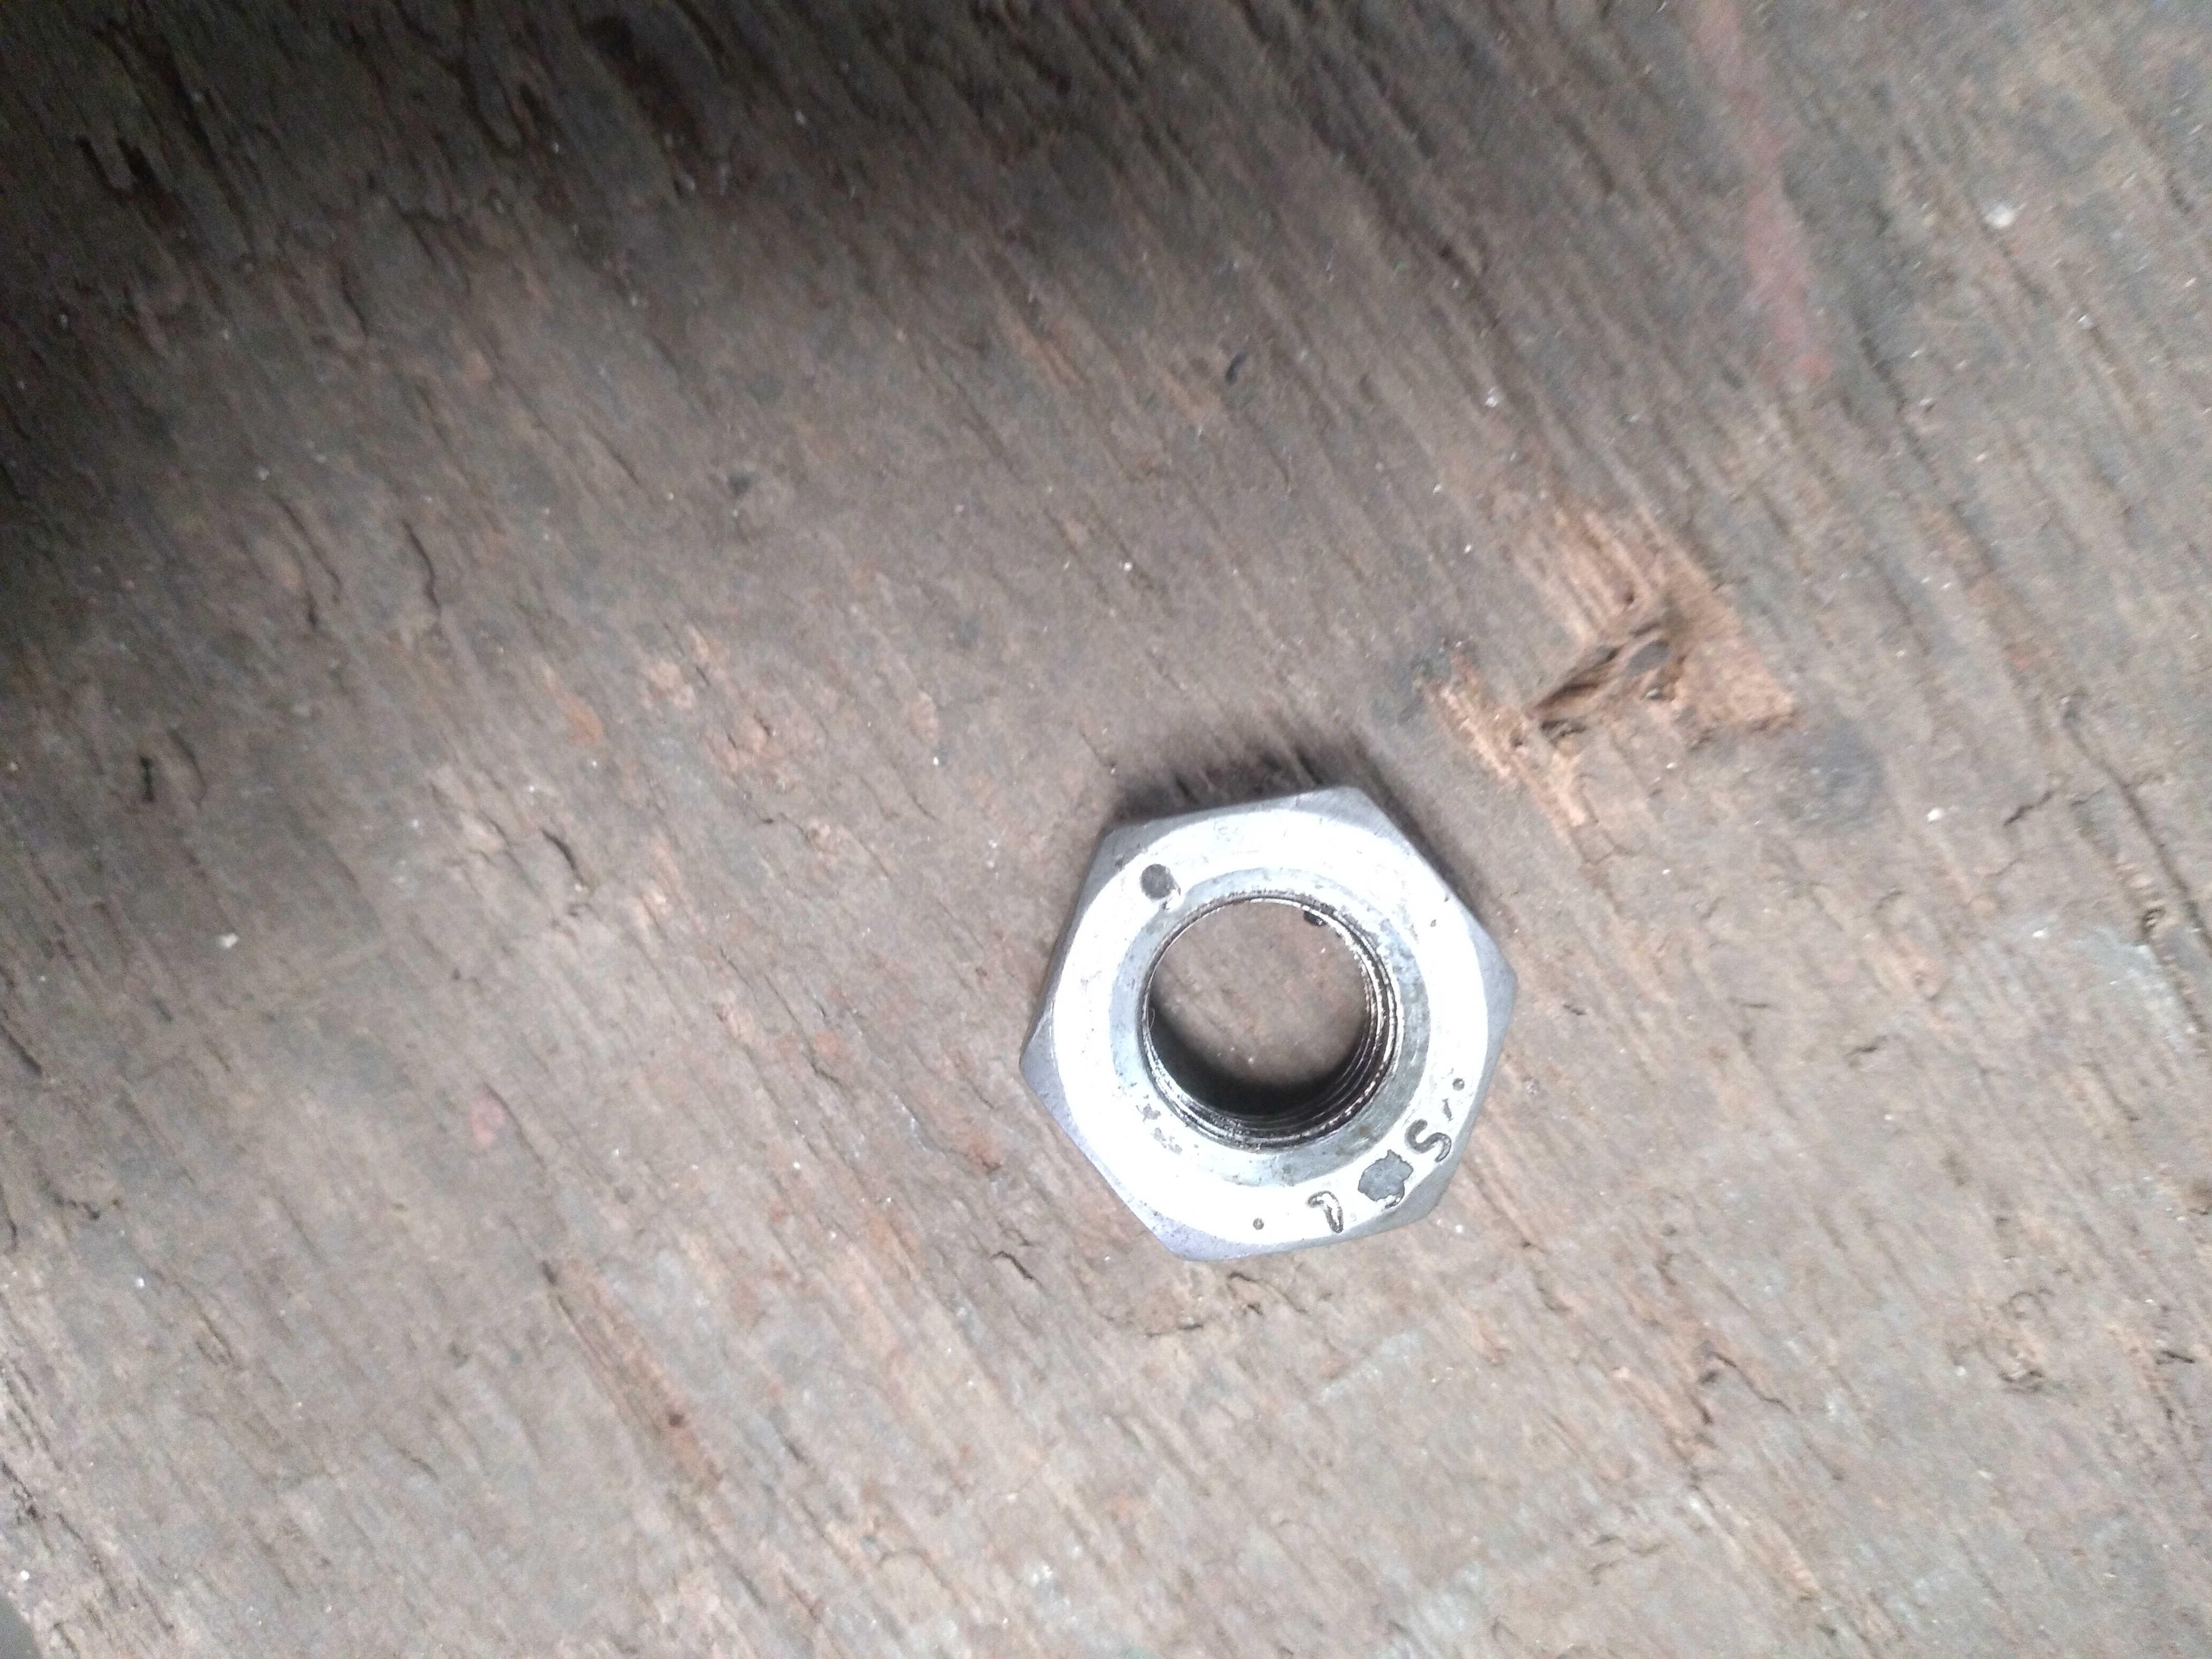Thread: (1118, 866, 1442, 1185)
